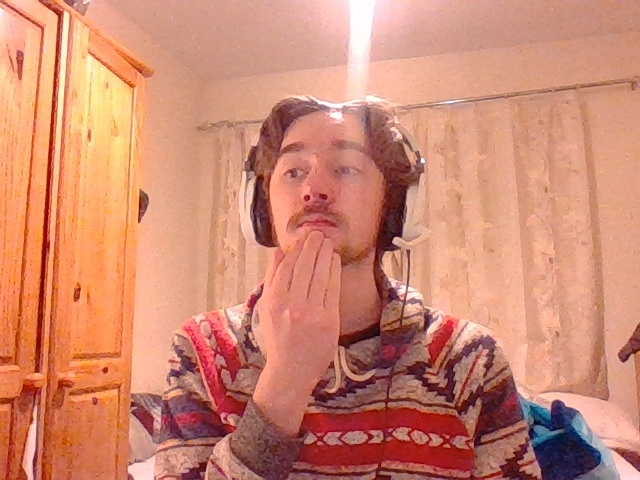thanks: (254, 230, 339, 402)
